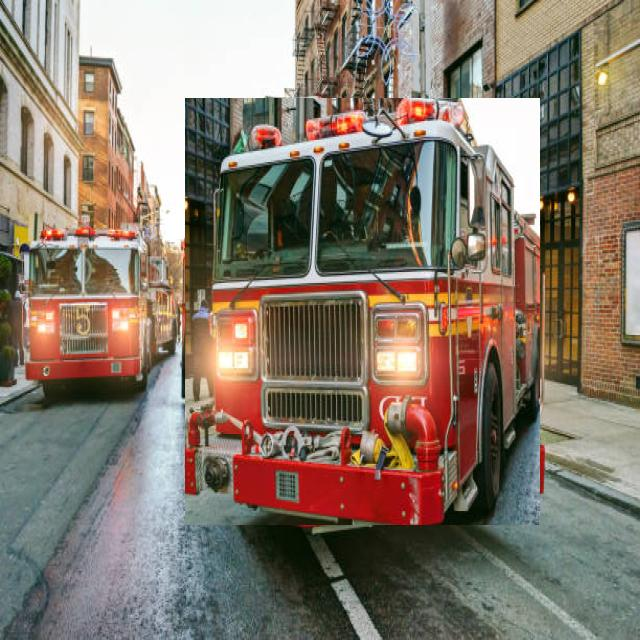emergency: (185, 98, 540, 525), (25, 227, 151, 396)
